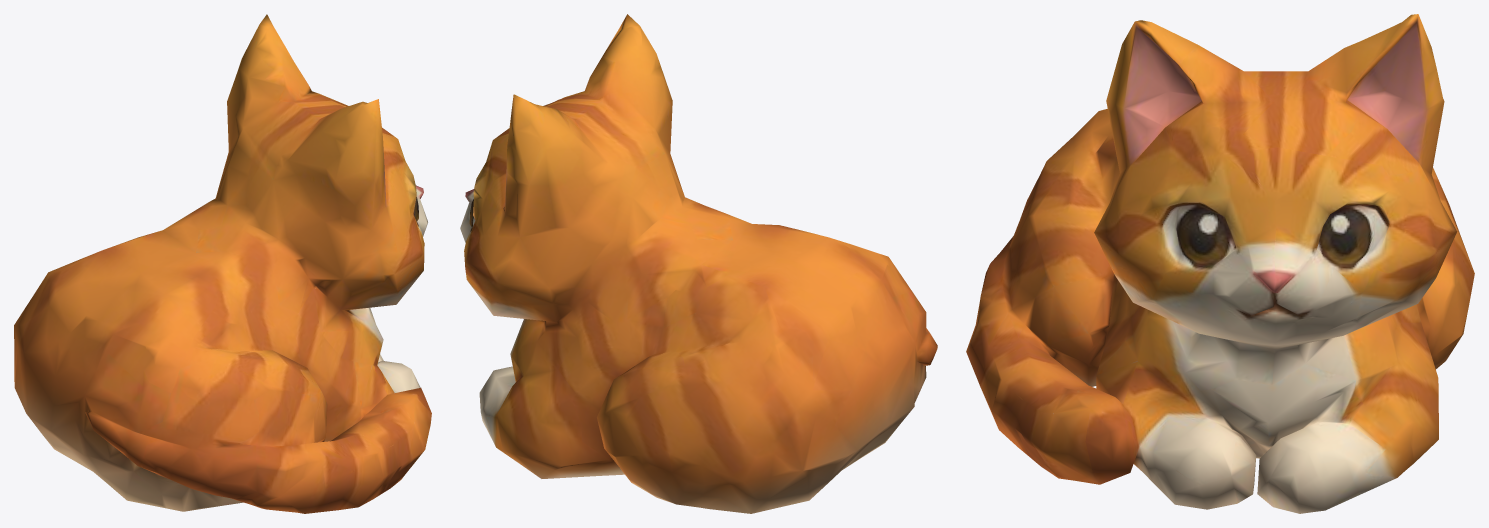
File: ginger-loaf.glb
The picture shows the model from 3 angles, left to right: view 1: azimuth 30°, elevation 25°; view 2: azimuth 150°, elevation 25°; view 3: azimuth 270°, elevation 25°; orthographic projection. The views are drawn at different scales.
Visible parts, largest first — view 1: tripo_node_b8d4ced5-ba7d-4969-bf03-b00f8140828f; view 2: tripo_node_b8d4ced5-ba7d-4969-bf03-b00f8140828f; view 3: tripo_node_b8d4ced5-ba7d-4969-bf03-b00f8140828f.
Part boxes in pixels (x1,y1,x2,y2): tripo_node_b8d4ced5-ba7d-4969-bf03-b00f8140828f: (14, 14, 431, 513); tripo_node_b8d4ced5-ba7d-4969-bf03-b00f8140828f: (460, 14, 937, 513); tripo_node_b8d4ced5-ba7d-4969-bf03-b00f8140828f: (966, 14, 1474, 513).
Bounding box in the file's own units: 1 × 0.9017 × 0.8836.
1 material, 1 textured.
